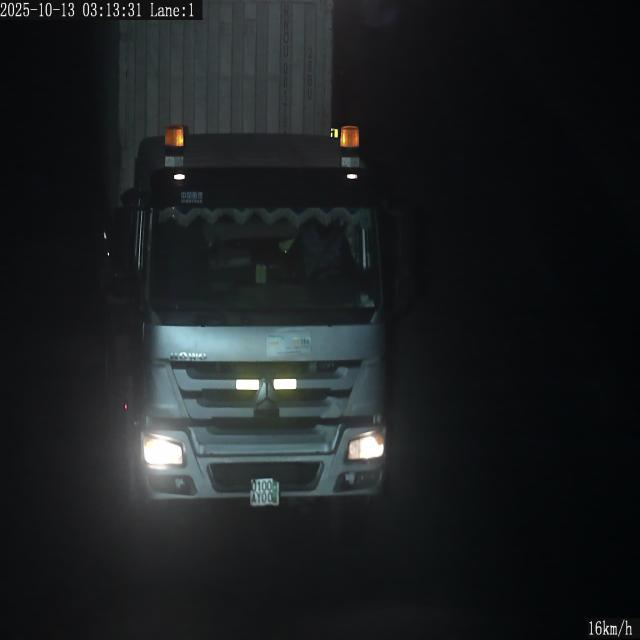BUS: (250, 479, 279, 506)
